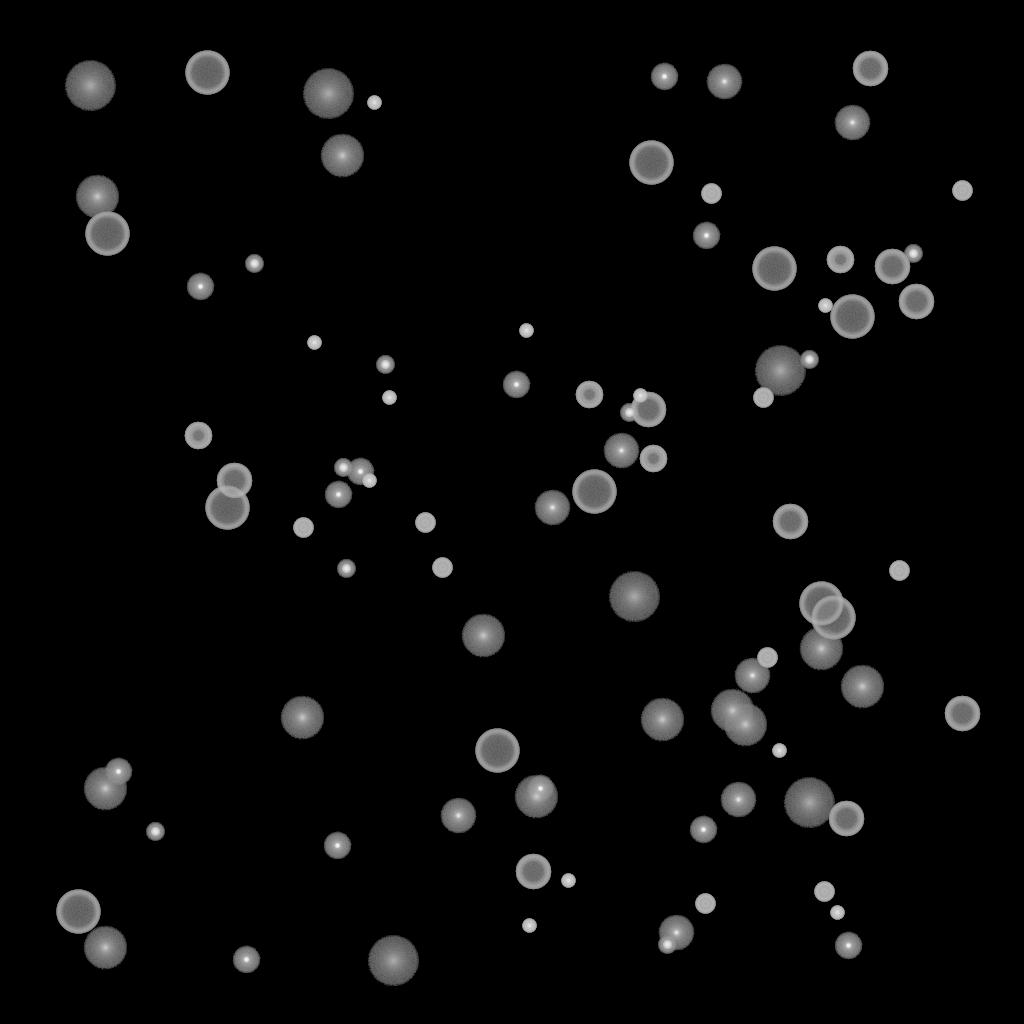depth:-10: (186, 273, 214, 301), (834, 932, 862, 960), (104, 758, 132, 786), (232, 946, 260, 974), (692, 222, 720, 250), (324, 481, 352, 509), (526, 775, 554, 803), (689, 816, 717, 844), (346, 458, 374, 486), (323, 832, 351, 860), (650, 63, 678, 91), (502, 371, 530, 399)
depth:-20: (658, 936, 676, 954), (146, 823, 164, 841), (904, 245, 922, 263), (620, 404, 638, 422), (245, 255, 263, 273), (376, 356, 394, 374), (337, 560, 355, 578), (334, 459, 352, 477), (800, 351, 818, 369)
depth:-30: (519, 324, 533, 338), (830, 906, 844, 920), (818, 299, 832, 313), (367, 96, 381, 110), (307, 336, 321, 350), (522, 919, 536, 933), (772, 744, 786, 758), (362, 474, 376, 488), (561, 874, 575, 888), (382, 391, 396, 405), (633, 389, 647, 403)
depth:-40: (415, 513, 435, 533), (889, 561, 909, 581), (695, 894, 715, 914), (753, 388, 773, 408), (701, 184, 721, 204), (757, 648, 777, 668), (293, 518, 313, 538), (432, 558, 452, 578), (814, 882, 834, 902), (952, 181, 972, 201)
depth:-50: (575, 381, 603, 409), (826, 246, 854, 274), (639, 445, 667, 473), (184, 422, 212, 450)
depth:-60: (828, 801, 864, 837), (852, 51, 888, 87), (772, 504, 808, 540), (898, 284, 934, 320), (944, 696, 980, 732), (874, 249, 910, 285), (630, 392, 666, 428), (515, 854, 551, 890), (216, 463, 252, 499)
depth:-70: (85, 212, 129, 256), (572, 470, 616, 514), (811, 596, 855, 640), (185, 51, 229, 95), (475, 729, 519, 773), (752, 247, 796, 291), (830, 295, 874, 339), (56, 890, 100, 934), (629, 141, 673, 185), (205, 486, 249, 530), (799, 582, 843, 626)
depth:0: (834, 105, 870, 141), (603, 433, 639, 469), (440, 798, 476, 834), (720, 782, 756, 818), (706, 64, 742, 100), (658, 915, 694, 951), (734, 658, 770, 694), (534, 490, 570, 526)
depth:10: (710, 689, 754, 733), (799, 627, 843, 671), (461, 614, 505, 658), (640, 698, 684, 742), (320, 134, 364, 178), (280, 696, 324, 740), (75, 175, 119, 219), (840, 665, 884, 709), (83, 926, 127, 970), (723, 703, 767, 747), (514, 775, 558, 819), (83, 767, 127, 811)
depth:20: (608, 572, 660, 622), (367, 936, 419, 986), (754, 346, 806, 396), (64, 61, 116, 111), (302, 69, 354, 119), (783, 778, 835, 828)
